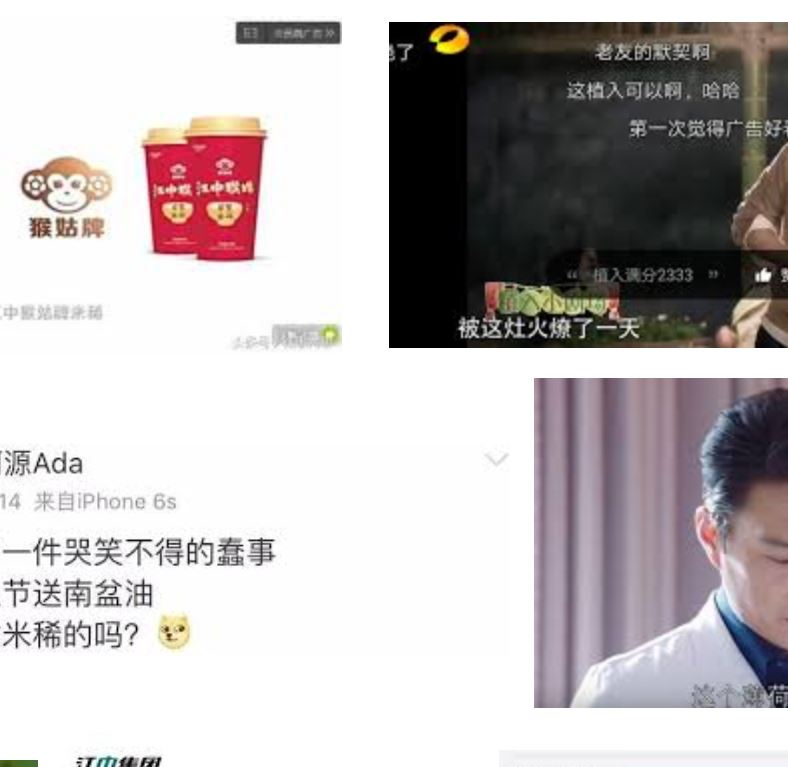cup: (188, 116, 263, 261), (142, 125, 193, 253)
